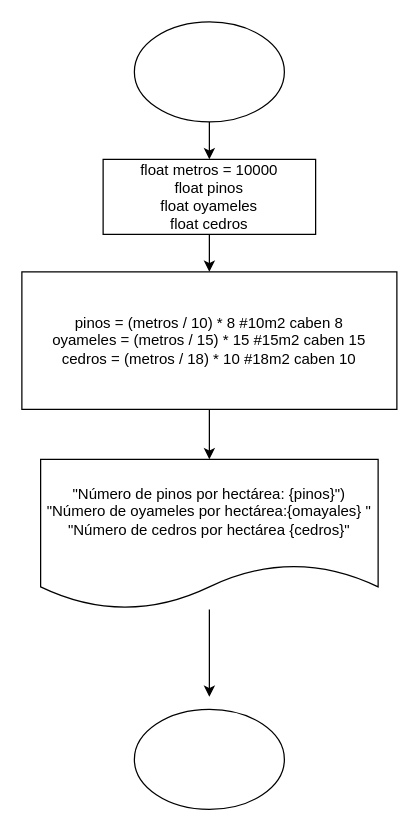
This 419x831 diagram has some shape labels left out. Each missing label, with the centre of its shape:
"FIN" goes at (208,758).
"INICIO" goes at (208,71).
